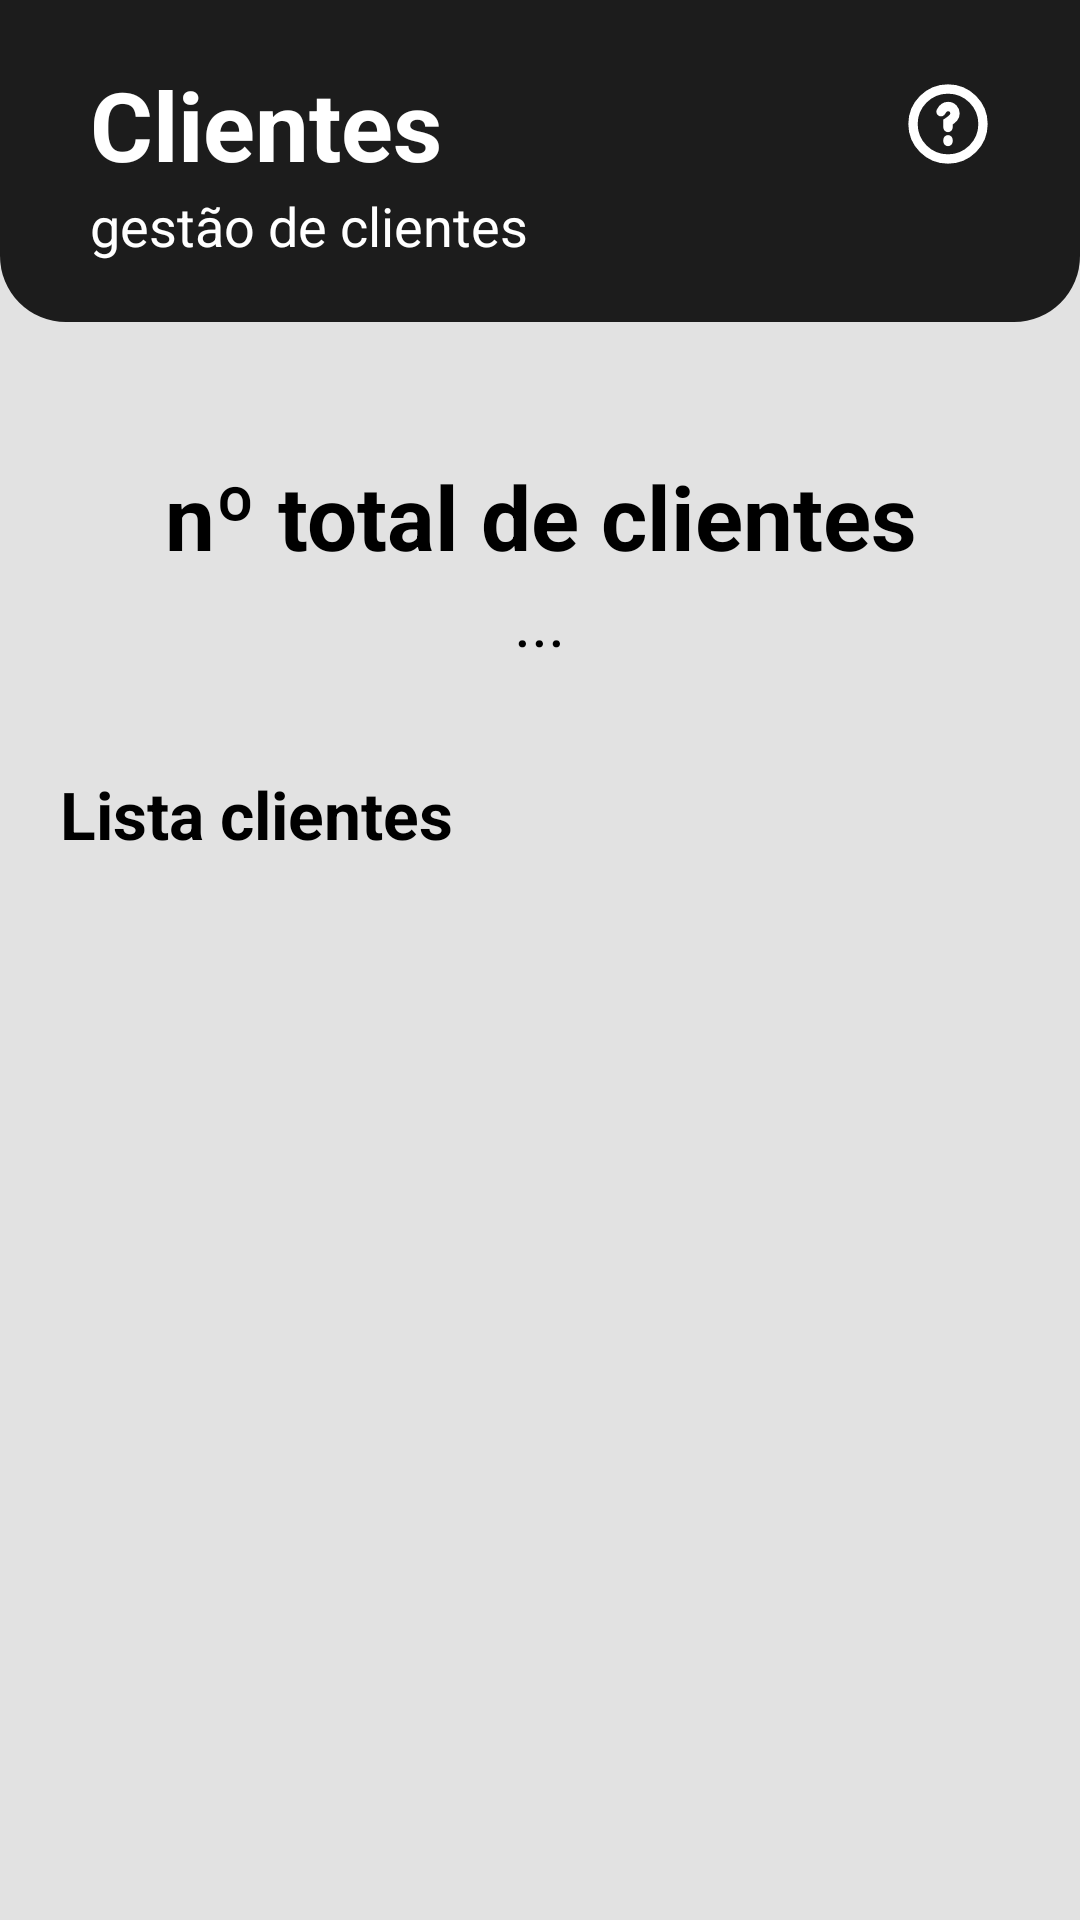

Icon click points for this 1080x1920 phone screenshot, format (x,y):
interrogacao: (948,124)
